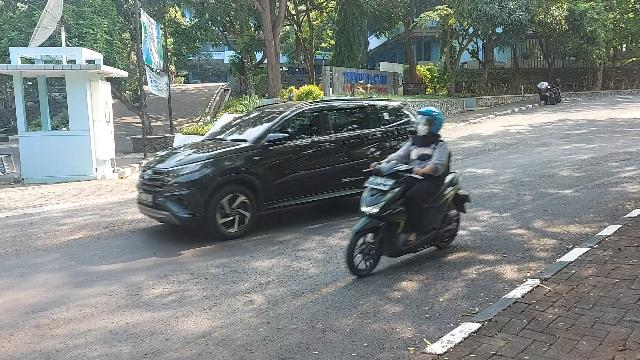helm: (417, 108, 444, 137)
motor: (348, 147, 472, 278)
